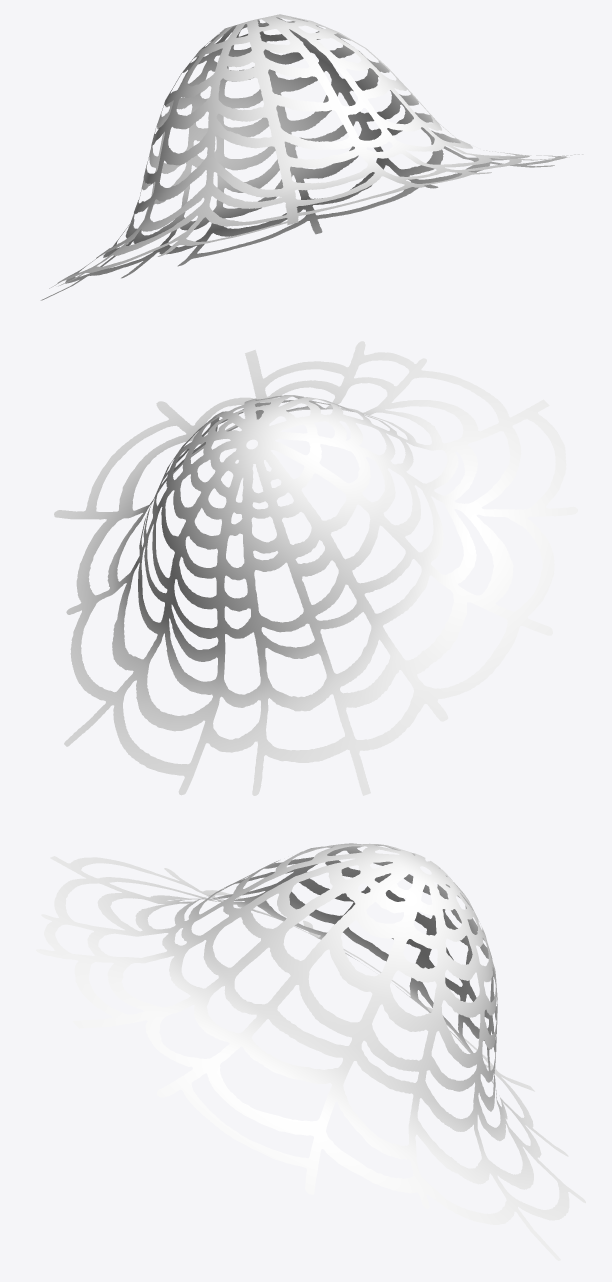
File: fx_web_explosion_01.fbx
The picture shows the model from 3 angles, top to bottom: view 1: azimuth 30°, elevation 25°; view 2: azimuth 150°, elevation 25°; view 3: azimuth 270°, elevation 25°; orthographic projection. The views are drawn at different scales.
Visible parts, largest first — view 1: web_01; view 2: web_01; view 3: web_01.
Boxes of the visible parts, left/top/right/bottom form: web_01: left=40, top=14, right=583, bottom=300; web_01: left=54, top=341, right=577, bottom=795; web_01: left=36, top=843, right=585, bottom=1260.
Size of the model in its own units: 605 by 353 by 524.
Materials: 1 (1 with a texture image).
